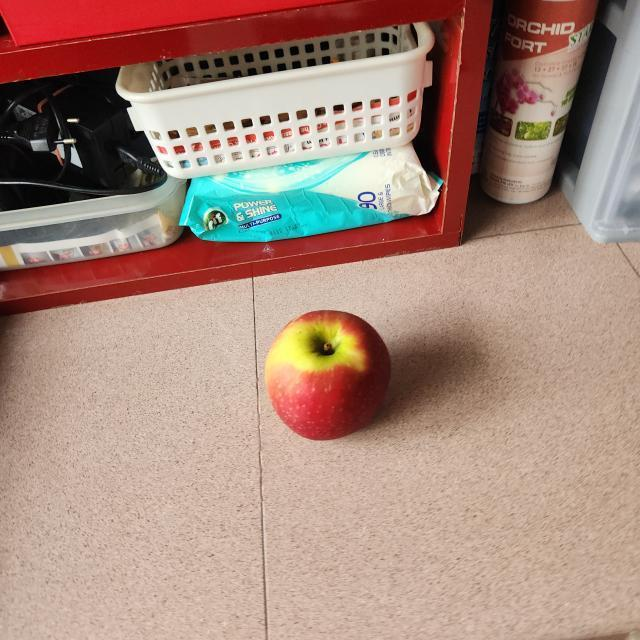apple: (256, 304, 404, 448)
